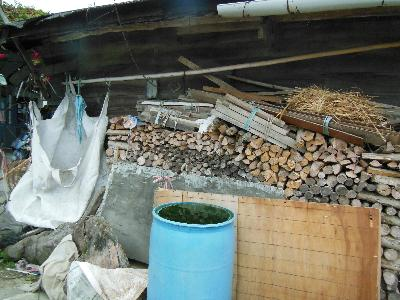bucket: (146, 202, 235, 298)
plastic_bag: (12, 87, 108, 226), (40, 263, 147, 300)
